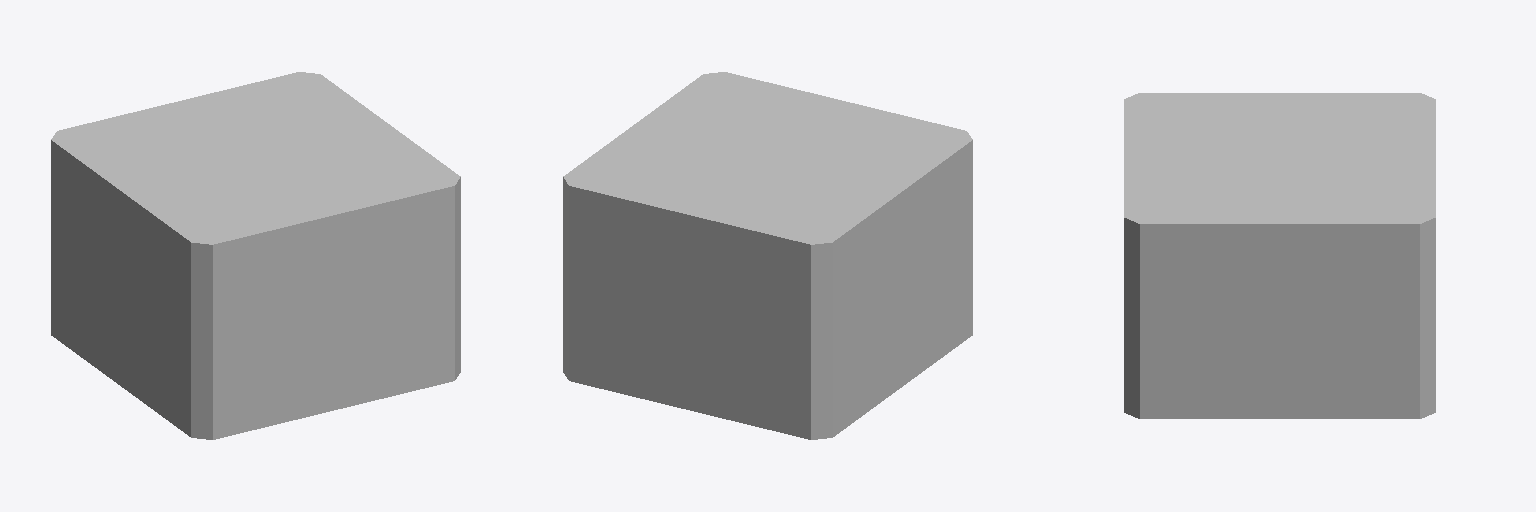
Rendered from BG_Rabb_02.obj.
The picture shows the model from 3 angles: view 1: azimuth 30°, elevation 25°; view 2: azimuth 150°, elevation 25°; view 3: azimuth 270°, elevation 25°; orthographic projection.
Parts seen in each view (by area): view 1: pCube3; view 2: pCube3; view 3: pCube3.
Part boxes in pixels (x1,y1,x2,y2): pCube3: (51,72,460,439); pCube3: (563,72,972,439); pCube3: (1124,93,1435,418).
Size of the model in its own units: 263 by 182 by 263.